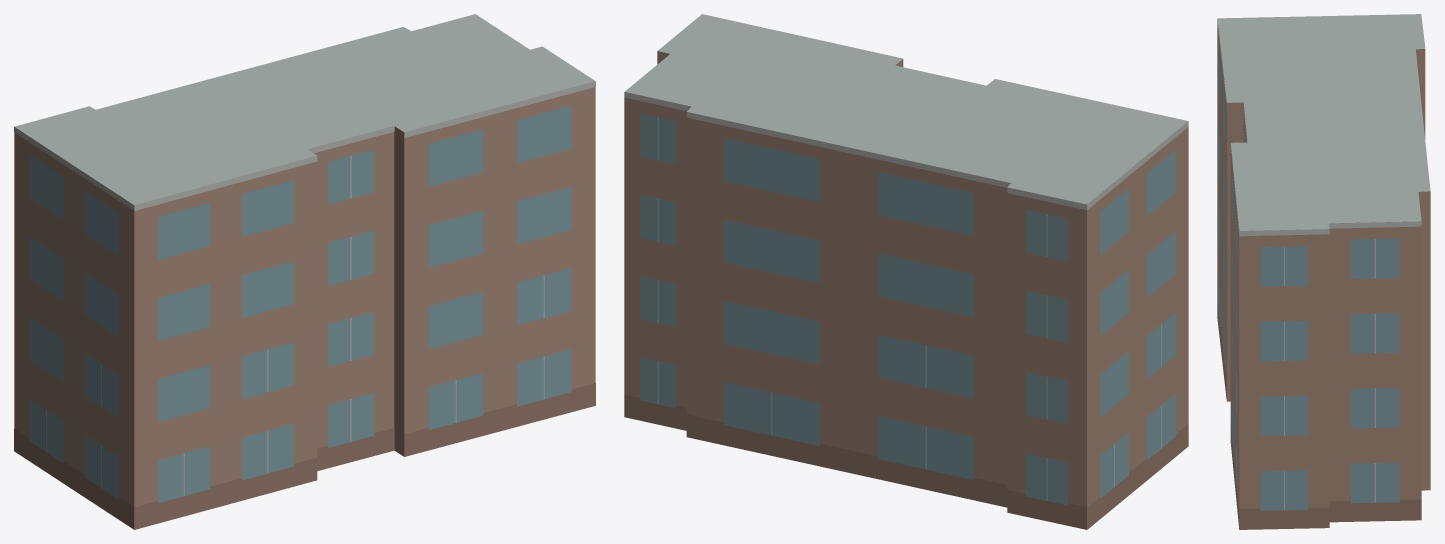
File: survey-upis-32688376.glb
The picture shows the model from 3 angles, left to right: view 1: azimuth 30°, elevation 25°; view 2: azimuth 150°, elevation 25°; view 3: azimuth 270°, elevation 25°; orthographic projection. The views are drawn at different scales.
Visible parts, largest first — view 1: survey-upis-32688376.tmp; view 2: survey-upis-32688376.tmp; view 3: survey-upis-32688376.tmp.
Boxes of the visible parts, x1=… form: survey-upis-32688376.tmp: x1=14, y1=14, x2=595, y2=529; survey-upis-32688376.tmp: x1=624, y1=14, x2=1188, y2=529; survey-upis-32688376.tmp: x1=1217, y1=14, x2=1430, y2=529.
Bounding box in the file's own units: 21.6 × 13.87 × 8.97.
